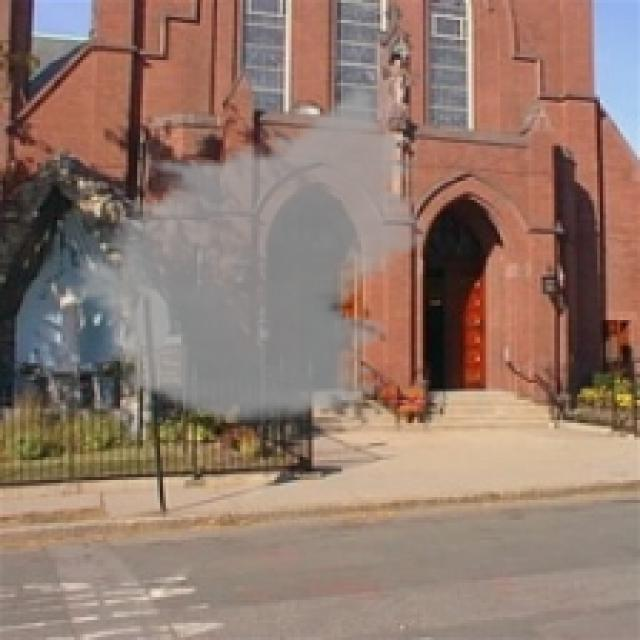Smoke: (63, 82, 440, 428)
